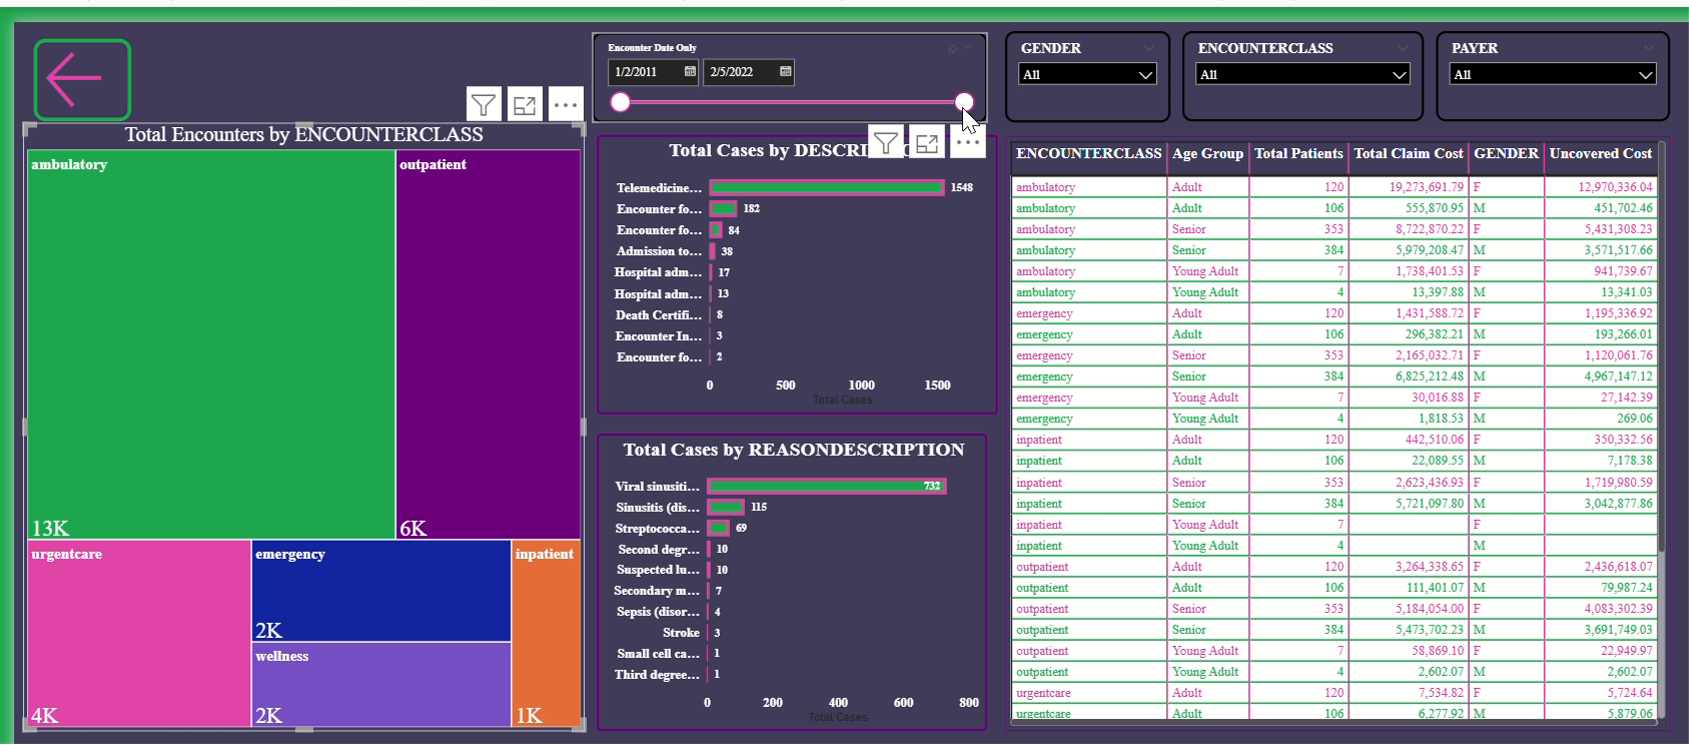

Layout of this report page (visuals, bound fields, positions):
{"tool":"powerbi","page":{"name":"Page 3","canvas":[2500,1500],"ordinal":2},"visuals":[{"type":"clusteredBarChart","fields":{"Category":["encounters.REASONDESCRIPTION"],"Y":["All KPI measures.Total Cases"]},"box":[718.5,507.4,481.5,366.7],"z":0},{"type":"clusteredBarChart","fields":{"Category":["encounters.DESCRIPTION"],"Y":["All KPI measures.Total Cases"]},"box":[718.5,138.9,494.4,344.4],"z":1000},{"type":"treemap","fields":{"Group":["encounters.ENCOUNTERCLASS"],"Values":["All KPI measures.Total Encounters"]},"box":[11.1,124.1,692.6,750],"z":2000},{"type":"slicer","fields":{"Values":["encounters.PAYER"]},"box":[1753.7,11.1,288.9,111.1],"z":3000},{"type":"slicer","fields":{"Values":["encounters.ENCOUNTERCLASS"]},"box":[1440.7,11.1,298.1,111.1],"z":4000},{"type":"slicer","fields":{"Values":["patients.GENDER"]},"box":[1222.2,11.1,203.7,113],"z":5000},{"type":"slicer","fields":{"Values":["encounters.Encounter Date Only Hierarchy.Encounter Date Only"]},"box":[713,13,487,111.1],"z":6000},{"type":"tableEx","fields":{"Values":["encounters.ENCOUNTERCLASS","patients.Age Group","All KPI measures.Total Patients","All KPI measures.Total Claim Cost","patients.GENDER","All KPI measures.Uncovered Cost"]},"box":[1222.2,140.7,820.4,733.3],"z":7000},{"type":"actionButton","box":[24.1,20.4,120.4,101.9],"z":8000}]}

Visuals, with their boxes on the page's 2500x1500 design canvas (x1, y1, x2, y2). These are canvas units, not pixel positions in the 1689x745 screenshot, which may show the page scaled, cropped or inside an application window:
clusteredBarChart - encounters.REASONDESCRIPTION x All KPI measures.Total Cases: select_region(718, 507, 1200, 874)
clusteredBarChart - encounters.DESCRIPTION x All KPI measures.Total Cases: select_region(718, 139, 1213, 483)
treemap - encounters.ENCOUNTERCLASS x All KPI measures.Total Encounters: select_region(11, 124, 704, 874)
slicer - encounters.PAYER: select_region(1754, 11, 2043, 122)
slicer - encounters.ENCOUNTERCLASS: select_region(1441, 11, 1739, 122)
slicer - patients.GENDER: select_region(1222, 11, 1426, 124)
slicer - encounters.Encounter Date Only Hierarchy.Encounter Date Only: select_region(713, 13, 1200, 124)
tableEx - encounters.ENCOUNTERCLASS x patients.Age Group: select_region(1222, 141, 2043, 874)
actionButton: select_region(24, 20, 144, 122)
